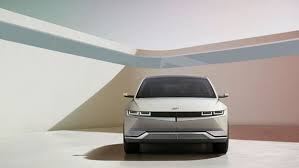Honda Ioniq: (117, 68, 243, 159)
